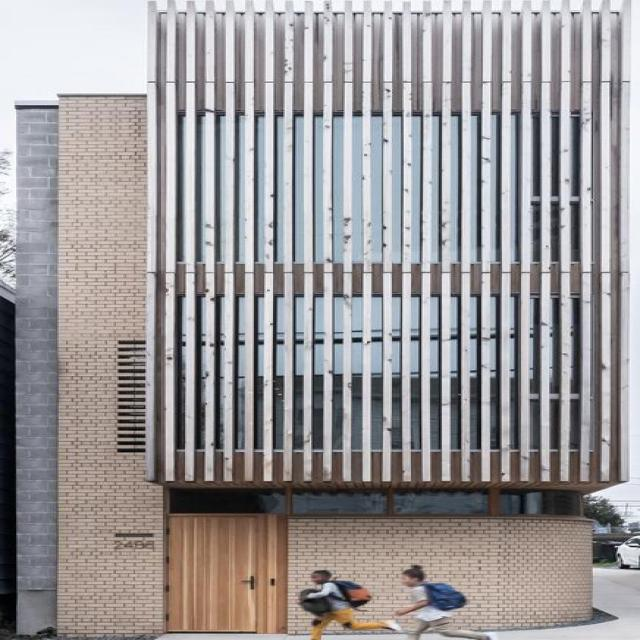door: (166, 514, 284, 632)
wall: (56, 0, 634, 639)
windows: (176, 488, 583, 517)
